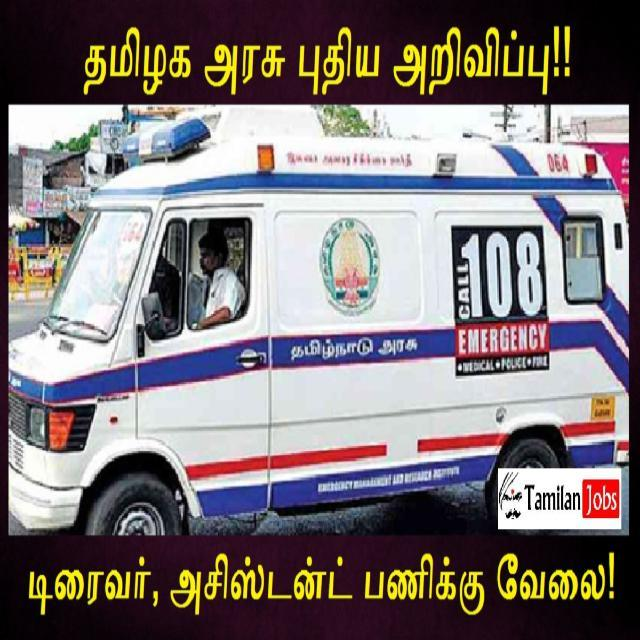ambulance: (8, 105, 630, 512)
